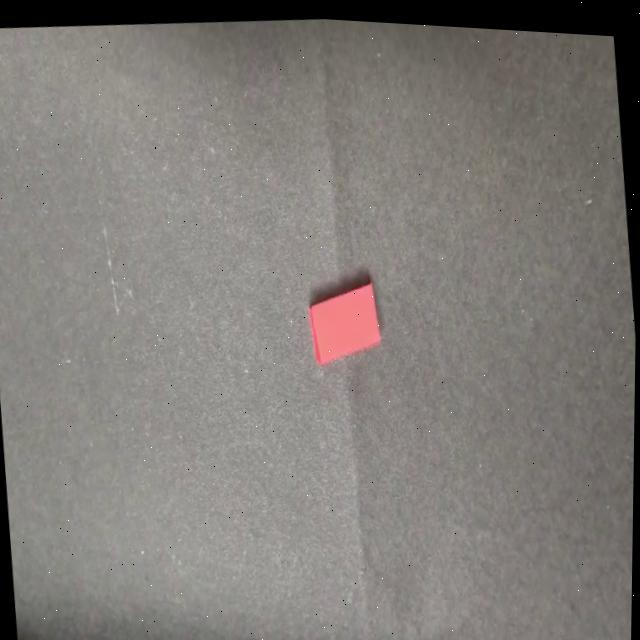red block: (305, 273, 385, 369)
